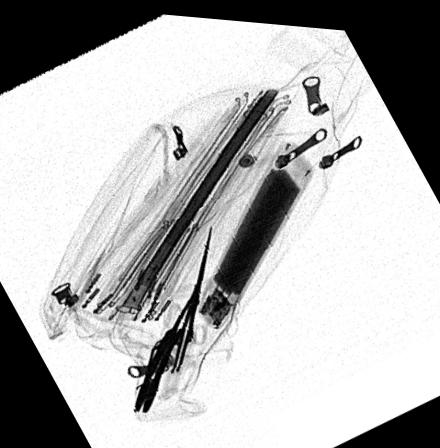Knife: (129, 273, 202, 409)
Powerbank: (190, 133, 315, 329)
Scissors: (155, 214, 229, 402)
